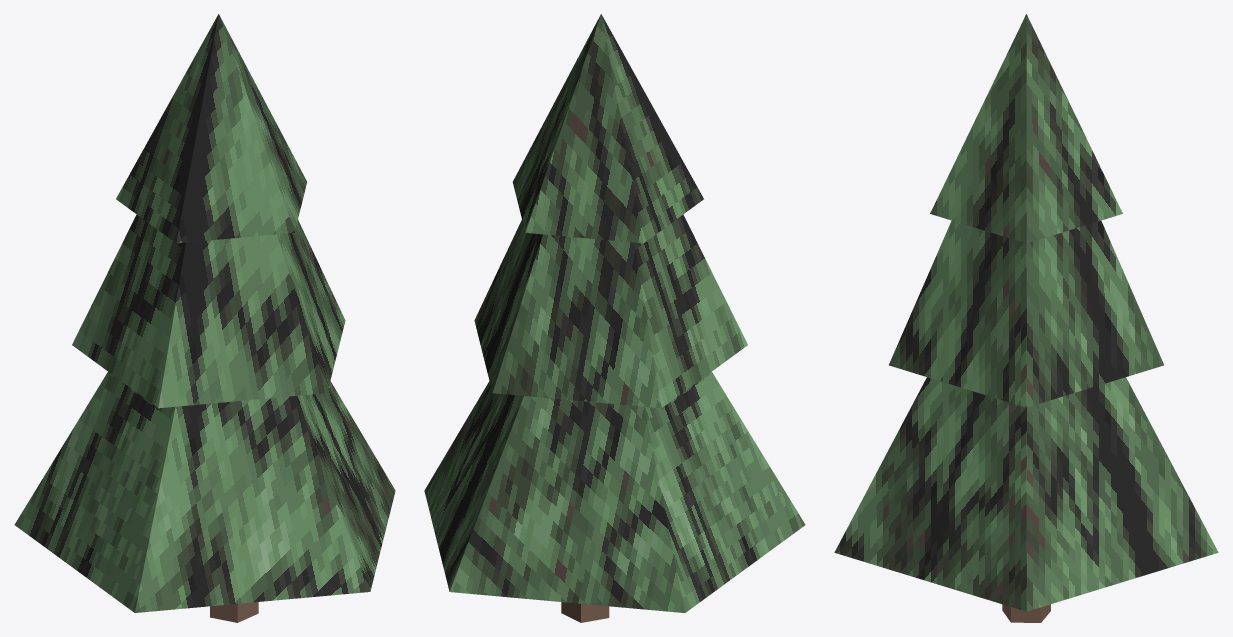
File: firlarge.obj
3 views of the same model, side by side, from view 1: azimuth 30°, elevation 25°; view 2: azimuth 150°, elevation 25°; view 3: azimuth 270°, elevation 25° (orthographic).
Bounding box in the file's own units: 3.84 × 6.88 × 4.04.
2 materials, 2 textured.
